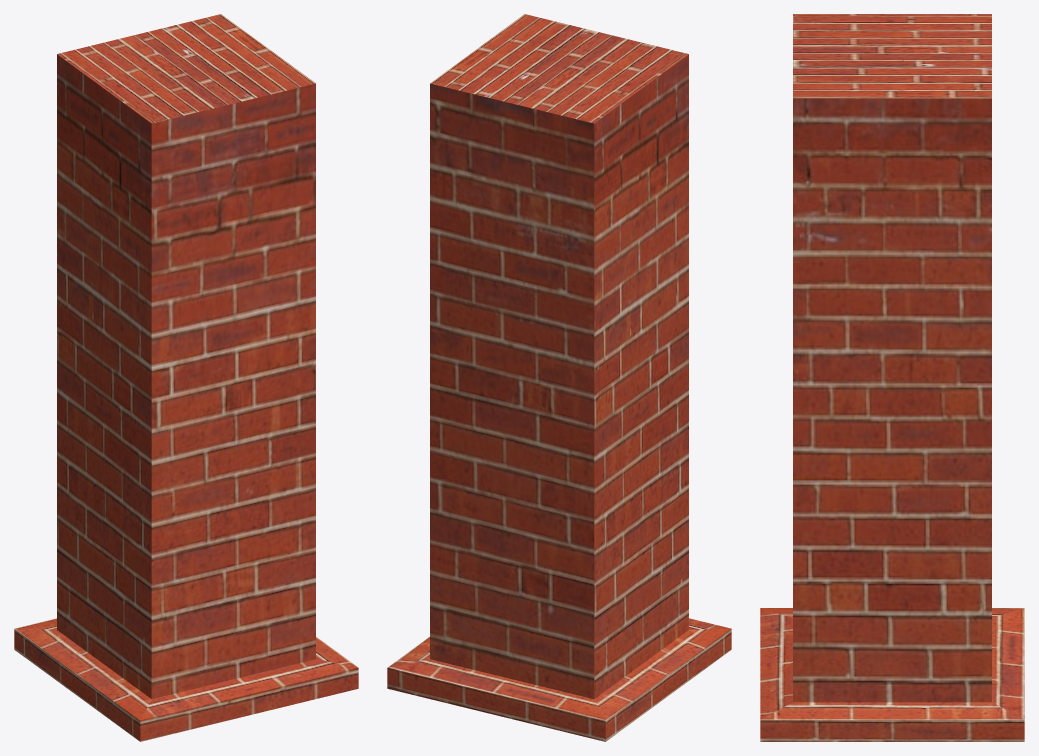
The model's file is brick column.fbx.
The picture shows the model from 3 angles, left to right: view 1: azimuth 30°, elevation 25°; view 2: azimuth 150°, elevation 25°; view 3: azimuth 270°, elevation 25°; orthographic projection. The views are drawn at different scales.
Visible parts, largest first — view 1: Cube; view 2: Cube; view 3: Cube.
Boxes of the visible parts, <box> form: Cube: <box>14,14,358,741</box>; Cube: <box>387,14,731,741</box>; Cube: <box>760,14,1024,741</box>.
Bounding box in the file's own units: 266 × 698 × 266.
